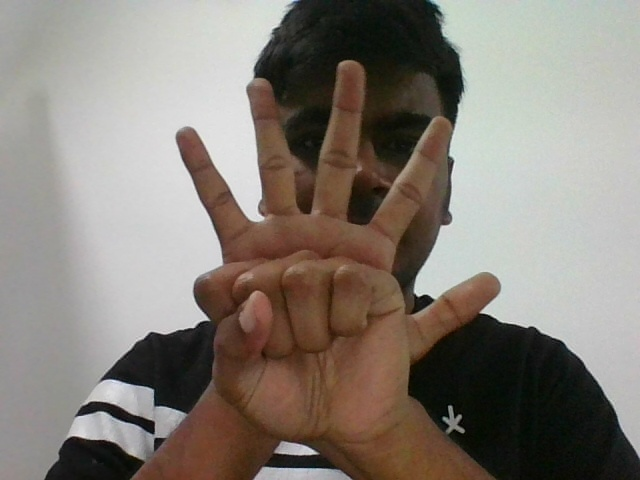coronavirus: (165, 61, 502, 438)
